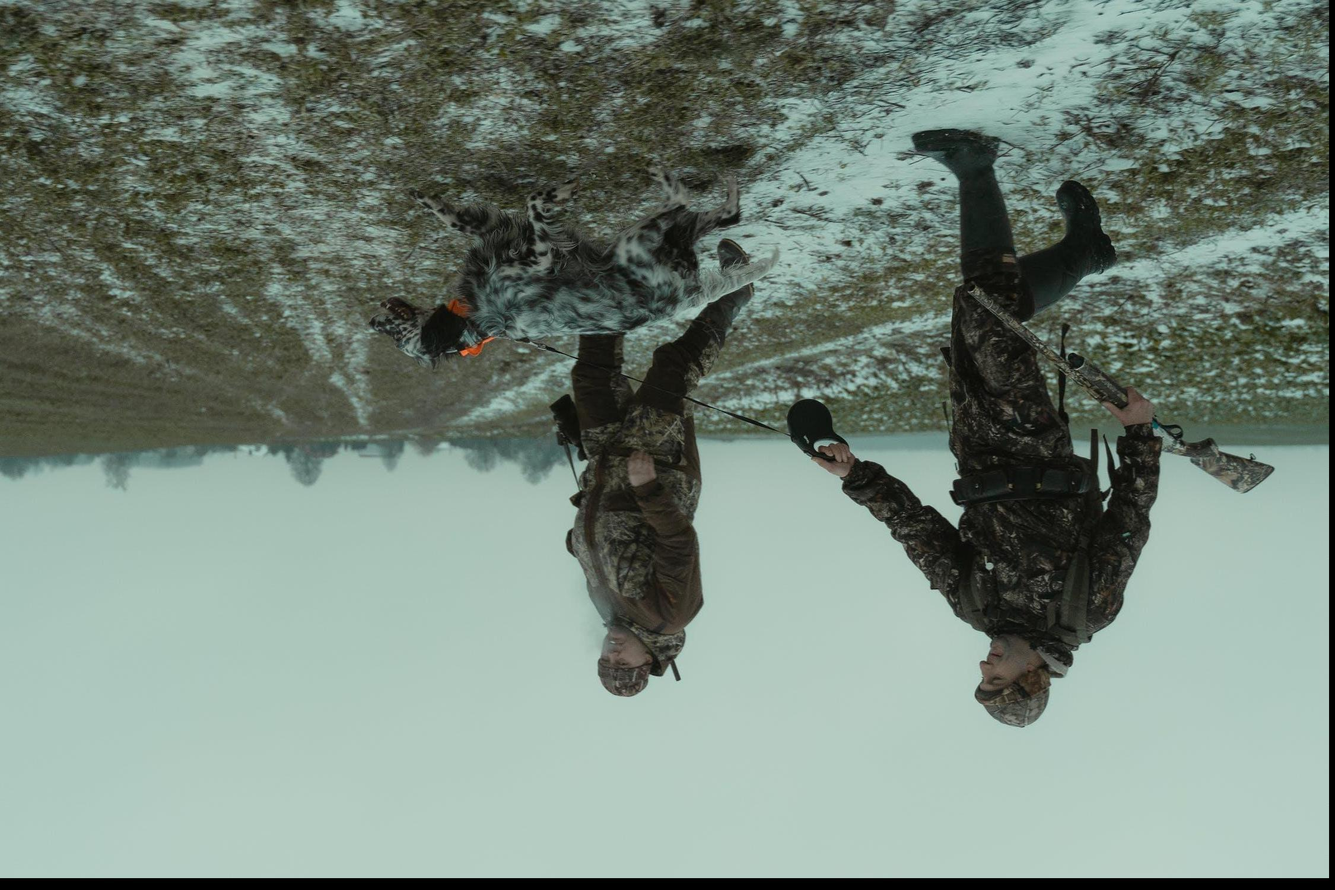larga: (965, 282, 1277, 495)
